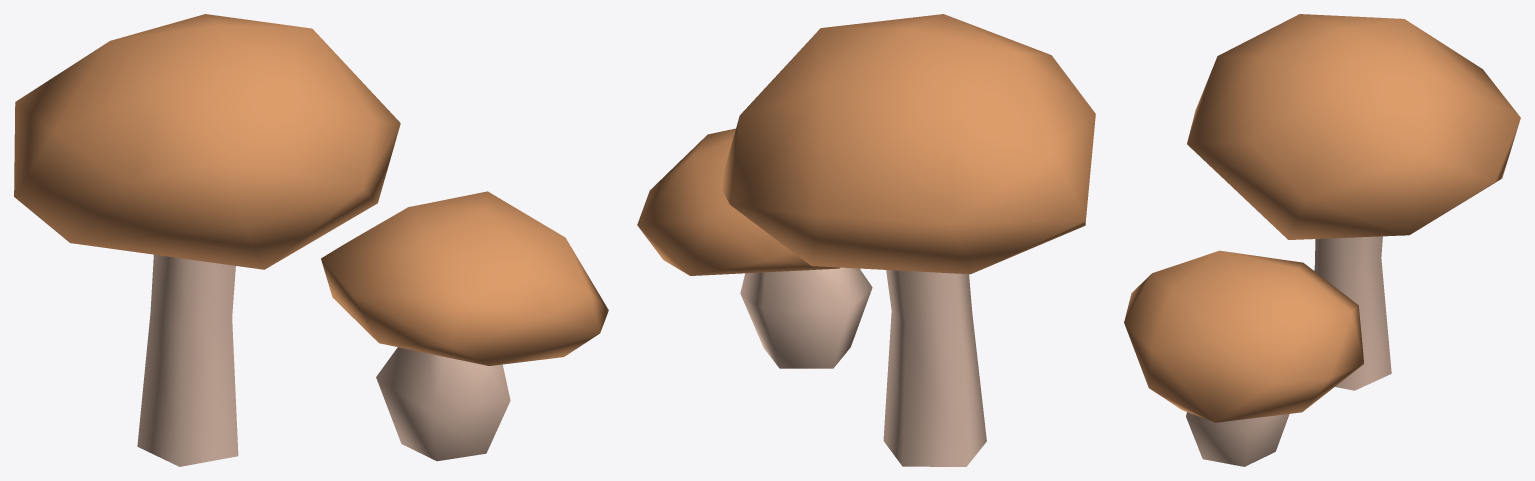
Rendered from mushroom6.fbx.
3 renders of one model, left to right at view 1: azimuth 30°, elevation 25°; view 2: azimuth 150°, elevation 25°; view 3: azimuth 270°, elevation 25°, orthographic. The views are drawn at different scales.
Visible parts, largest first — view 1: Mushroom_f_08; view 2: Mushroom_f_08; view 3: Mushroom_f_08.
Boxes of the visible parts, x1,y1,x2,y2 form: Mushroom_f_08: (14, 14, 608, 466); Mushroom_f_08: (637, 14, 1095, 466); Mushroom_f_08: (1124, 14, 1520, 466).
Bounding box in the file's own units: 31.53 × 39.62 × 30.9.
1 material, 1 textured.
